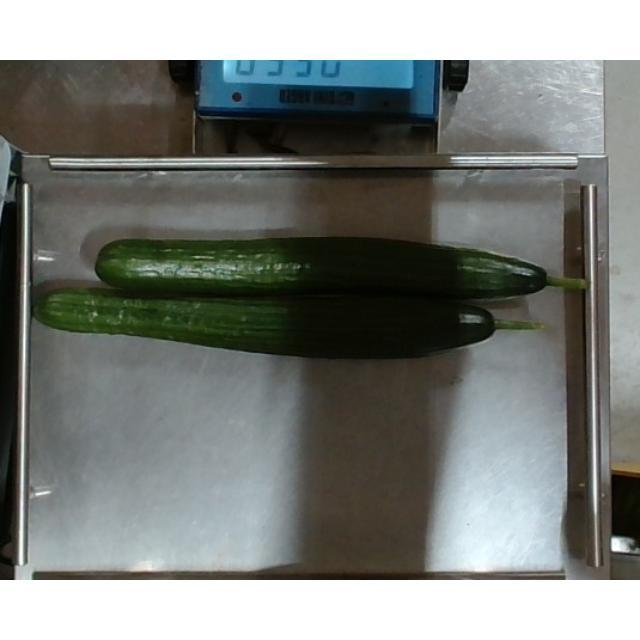cucumber: (34, 288, 544, 362), (94, 234, 590, 304)
